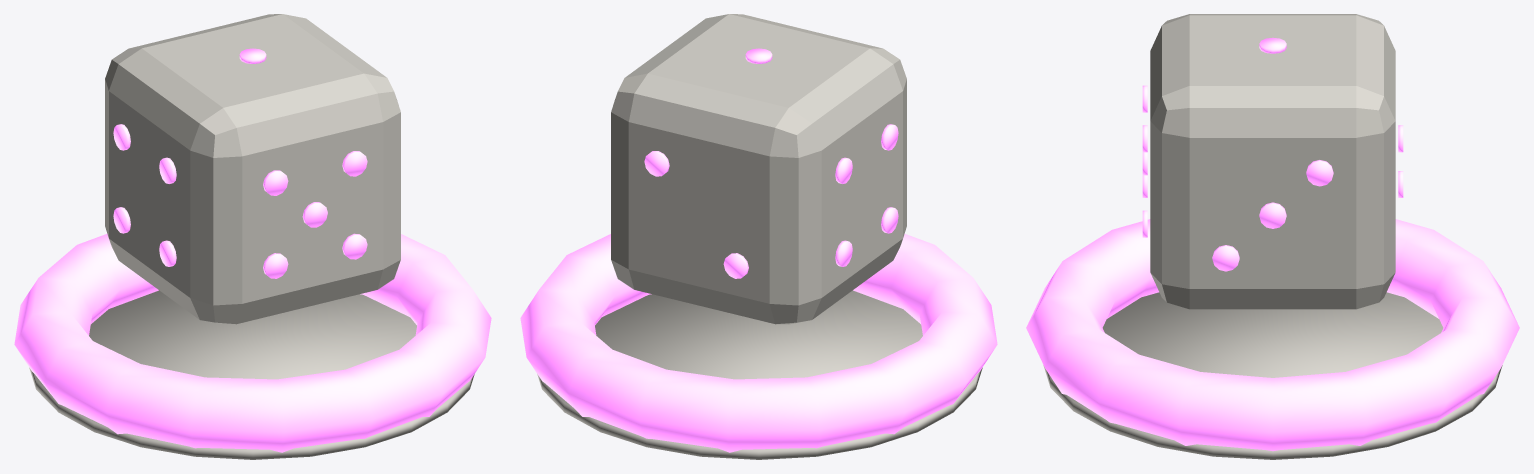
Rendered from legacy-seal-die.glb.
3 views of the same model, side by side, from view 1: azimuth 30°, elevation 25°; view 2: azimuth 150°, elevation 25°; view 3: azimuth 270°, elevation 25° (orthographic). The views are drawn at different scales.
Visible parts, largest first — view 1: mesh_legacy_seal_die_body, mesh_legacy_seal_die_accent; view 2: mesh_legacy_seal_die_body, mesh_legacy_seal_die_accent; view 3: mesh_legacy_seal_die_body, mesh_legacy_seal_die_accent.
Part boxes in pixels (<box>): mesh_legacy_seal_die_body: <box>29,14,474,459</box>; mesh_legacy_seal_die_accent: <box>14,48,491,452</box>; mesh_legacy_seal_die_body: <box>537,14,982,459</box>; mesh_legacy_seal_die_accent: <box>520,48,997,452</box>; mesh_legacy_seal_die_body: <box>1043,14,1502,459</box>; mesh_legacy_seal_die_accent: <box>1026,37,1519,451</box>.
Size of the model in its own units: 0.568 by 0.405 by 0.568.
